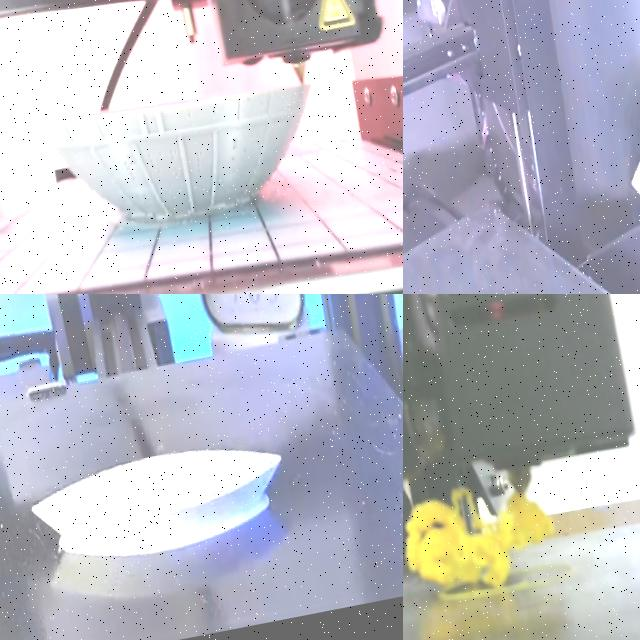spaghetti: (403, 479, 566, 610)
